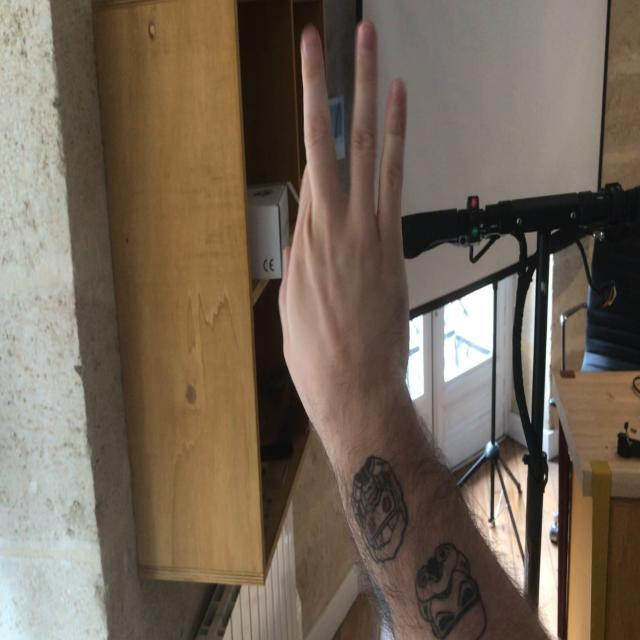no-gloves: (276, 20, 410, 409)
